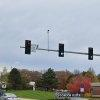traffic lights: (25, 40, 32, 57), (88, 46, 94, 62), (59, 44, 64, 58)
